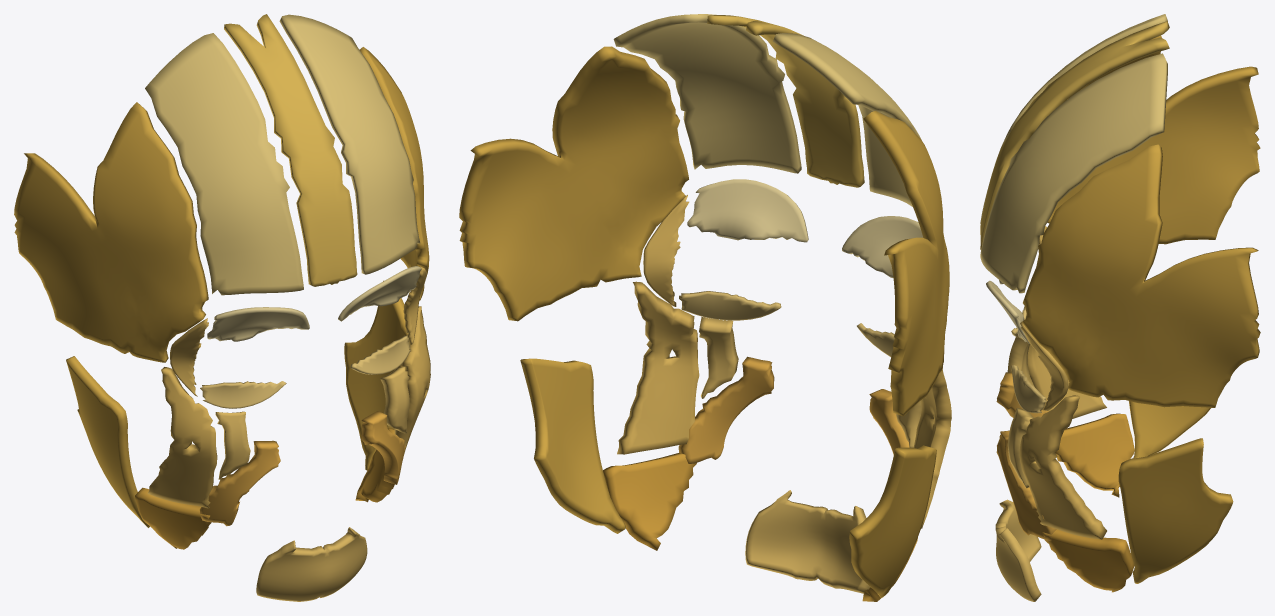
Rendered from lemak-superfisial.glb.
The picture shows the model from 3 angles, left to right: view 1: azimuth 30°, elevation 25°; view 2: azimuth 150°, elevation 25°; view 3: azimuth 270°, elevation 25°; orthographic projection. The views are drawn at different scales.
Visible parts, largest first — view 1: lemak-superfisial__lateral-temporal-pipi-r, lemak-superfisial__dahi-tengah-r, lemak-superfisial__dahi-tengah-l, lemak-superfisial__dahi-sentral, lemak-superfisial__lateral-temporal-pipi-l, lemak-superfisial__pipi-tengah-r, lemak-superfisial__mental, lemak-superfisial__nasolabial-r, lemak-superfisial__jowl-r, lemak-superfisial__orbital-superior-r, lemak-superfisial__pipi-tengah-l, lemak-superfisial__nasolabial-l (+8 smaller); view 2: lemak-superfisial__lateral-temporal-pipi-l, lemak-superfisial__lateral-temporal-pipi-r, lemak-superfisial__dahi-tengah-l, lemak-superfisial__pipi-tengah-l, lemak-superfisial__mental, lemak-superfisial__dahi-sentral, lemak-superfisial__orbital-superior-l, lemak-superfisial__dahi-tengah-r, lemak-superfisial__jowl-l, lemak-superfisial__nasolabial-l, lemak-superfisial__orbital-superior-r, lemak-superfisial__orbital-lateral-l (+4 smaller); view 3: lemak-superfisial__lateral-temporal-pipi-l, lemak-superfisial__dahi-tengah-l, lemak-superfisial__lateral-temporal-pipi-r, lemak-superfisial__pipi-tengah-l, lemak-superfisial__dahi-sentral, lemak-superfisial__jowl-r, lemak-superfisial__jowl-l, lemak-superfisial__mental, lemak-superfisial__nasolabial-l, lemak-superfisial__pipi-tengah-r, lemak-superfisial__dahi-tengah-r, lemak-superfisial__orbital-lateral-l (+5 smaller).
Part boxes in pixels (bbox=[...]): lemak-superfisial__lateral-temporal-pipi-r: bbox=[14, 102, 208, 527]; lemak-superfisial__dahi-tengah-r: bbox=[145, 33, 303, 295]; lemak-superfisial__dahi-tengah-l: bbox=[279, 14, 420, 274]; lemak-superfisial__dahi-sentral: bbox=[224, 14, 357, 286]; lemak-superfisial__lateral-temporal-pipi-l: bbox=[344, 47, 429, 470]; lemak-superfisial__pipi-tengah-r: bbox=[147, 367, 217, 508]; lemak-superfisial__mental: bbox=[256, 527, 367, 601]; lemak-superfisial__nasolabial-r: bbox=[200, 440, 280, 526]; lemak-superfisial__jowl-r: bbox=[135, 487, 211, 549]; lemak-superfisial__orbital-superior-r: bbox=[207, 307, 309, 341]; lemak-superfisial__pipi-tengah-l: bbox=[394, 306, 430, 458]; lemak-superfisial__nasolabial-l: bbox=[361, 411, 405, 484]; lemak-superfisial__lateral-temporal-pipi-l: bbox=[459, 46, 688, 533]; lemak-superfisial__lateral-temporal-pipi-r: bbox=[849, 111, 949, 598]; lemak-superfisial__dahi-tengah-l: bbox=[613, 14, 801, 173]; lemak-superfisial__pipi-tengah-l: bbox=[617, 281, 699, 454]; lemak-superfisial__mental: bbox=[745, 490, 870, 593]; lemak-superfisial__dahi-sentral: bbox=[707, 15, 864, 187]; lemak-superfisial__orbital-superior-l: bbox=[687, 179, 808, 242]; lemak-superfisial__dahi-tengah-r: bbox=[773, 33, 921, 206]; lemak-superfisial__jowl-l: bbox=[603, 453, 696, 550]; lemak-superfisial__nasolabial-l: bbox=[678, 356, 774, 463]; lemak-superfisial__orbital-superior-r: bbox=[842, 216, 923, 278]; lemak-superfisial__orbital-lateral-l: bbox=[643, 195, 689, 306]; lemak-superfisial__lateral-temporal-pipi-l: bbox=[1022, 144, 1260, 583]; lemak-superfisial__dahi-tengah-l: bbox=[980, 53, 1167, 293]; lemak-superfisial__lateral-temporal-pipi-r: bbox=[1047, 35, 1260, 458]; lemak-superfisial__pipi-tengah-l: bbox=[1019, 395, 1106, 539]; lemak-superfisial__dahi-sentral: bbox=[980, 21, 1169, 249]; lemak-superfisial__jowl-r: bbox=[1055, 413, 1134, 497]; lemak-superfisial__jowl-l: bbox=[1042, 529, 1134, 592]; lemak-superfisial__mental: bbox=[995, 499, 1041, 601]; lemak-superfisial__nasolabial-l: bbox=[996, 430, 1056, 540]; lemak-superfisial__pipi-tengah-r: bbox=[1027, 344, 1106, 418]; lemak-superfisial__dahi-tengah-r: bbox=[980, 14, 1167, 223]; lemak-superfisial__orbital-lateral-l: bbox=[1020, 321, 1068, 410].
Bounding box in the file's own units: 15.76 × 21.02 × 9.64.
